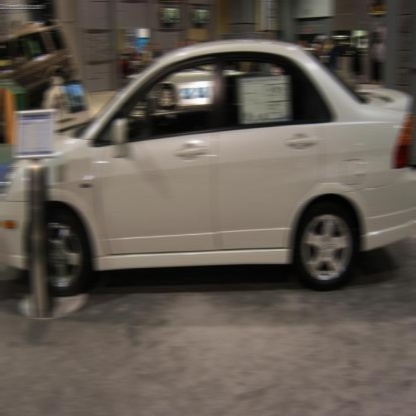Vehicle: (3, 37, 416, 292)
